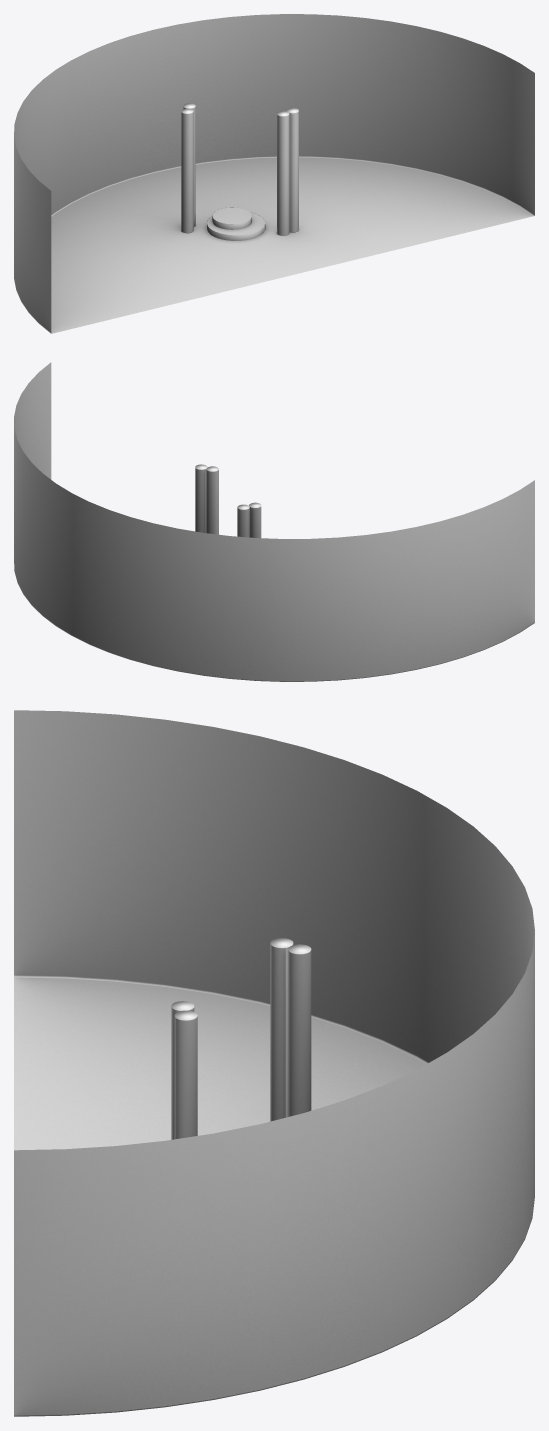
The model's file is baked2.glb.
3 views of the same model, one above another, from view 1: azimuth 30°, elevation 25°; view 2: azimuth 150°, elevation 25°; view 3: azimuth 270°, elevation 25° (orthographic). The views are drawn at different scales.
Visible parts, largest first — view 1: baked; view 2: baked; view 3: baked.
Boxes of the visible parts, x1,y1,x2,y2 form: baked: (14, 14, 534, 333); baked: (14, 362, 534, 681); baked: (14, 710, 534, 1416).
Size of the model in its own units: 1.92 by 0.5409 by 0.9582.
1 material, 1 textured.
